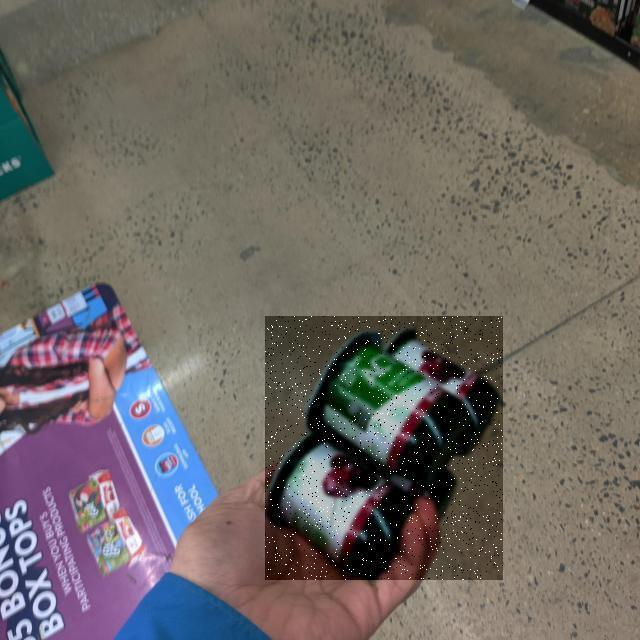Yoghurt: (265, 316, 503, 580)
